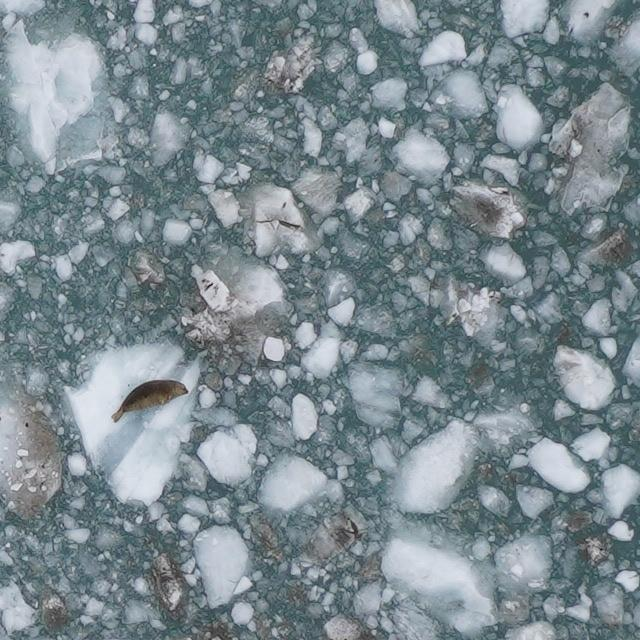seal: (108, 377, 193, 426)
